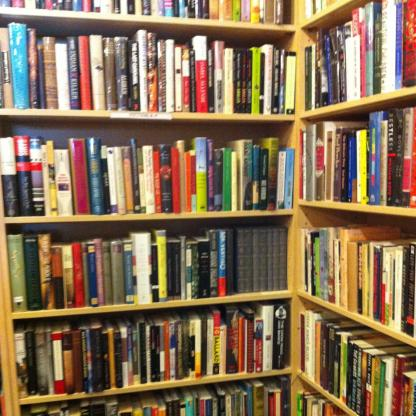book: (0, 21, 296, 116), (13, 301, 289, 399), (4, 229, 293, 316), (0, 134, 296, 210), (300, 222, 416, 341), (300, 306, 416, 416), (299, 102, 416, 208), (305, 0, 416, 111), (24, 372, 288, 416), (0, 0, 299, 24), (295, 387, 347, 416)
